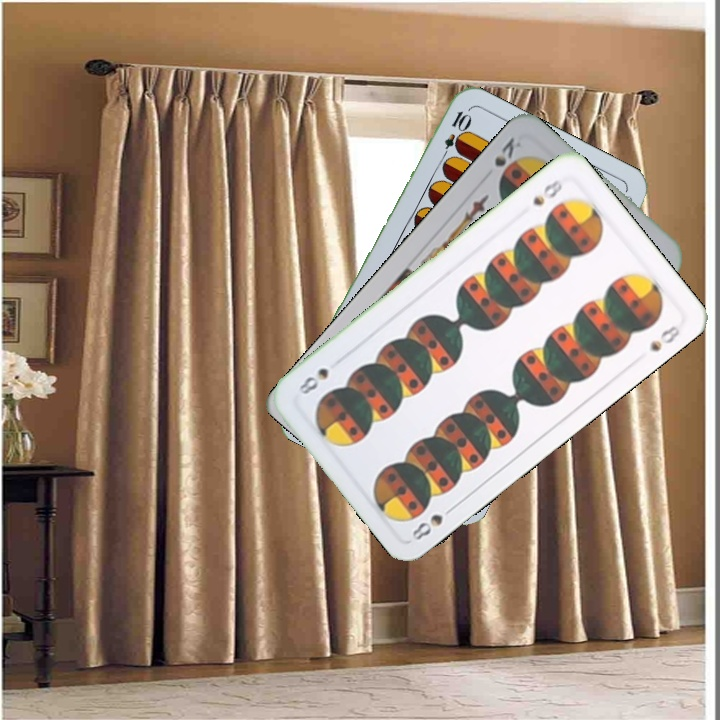E10: (437, 107, 472, 164)
S8: (408, 501, 459, 543), (528, 173, 567, 209)
SK: (490, 133, 524, 170)
